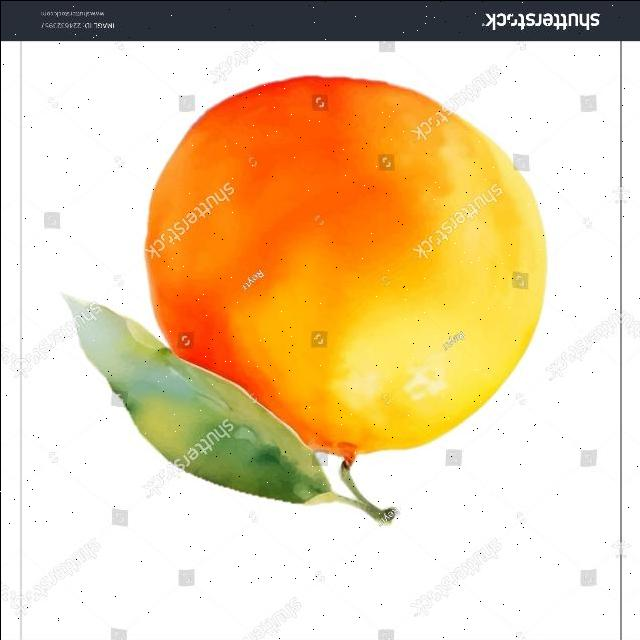Orange: (142, 75, 548, 463)
